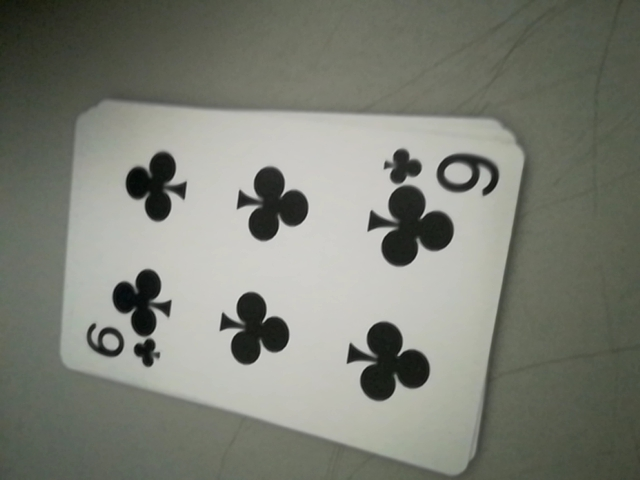mh 6: (381, 142, 506, 196), (82, 326, 164, 374)
